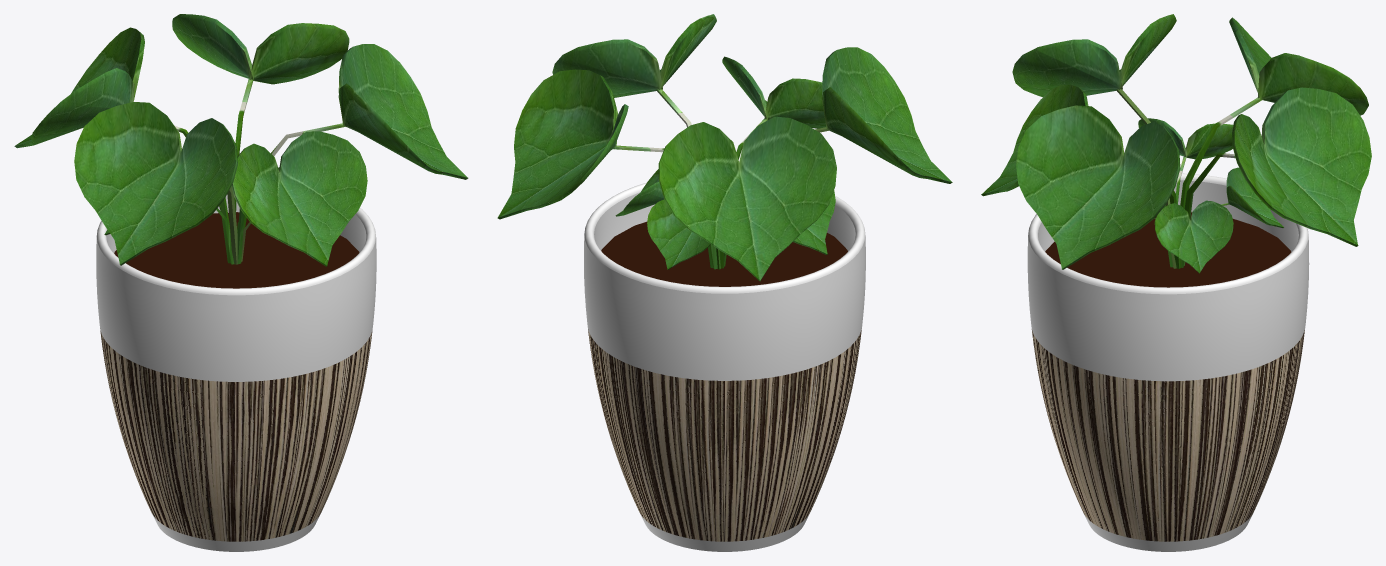
Rendered from Pflanze.gltf.
The picture shows the model from 3 angles, left to right: view 1: azimuth 30°, elevation 25°; view 2: azimuth 150°, elevation 25°; view 3: azimuth 270°, elevation 25°; orthographic projection.
Visible parts, largest first — view 1: Component#79, object 1, Komponente#3; view 2: Component#79, object 1, Komponente#3; view 3: Component#79, object 1, Komponente#3.
Part boxes in pixels (x1,y1,x2,y2): Component#79: (96, 194, 376, 551); object 1: (14, 14, 468, 266); Komponente#3: (114, 212, 359, 288); Component#79: (584, 182, 865, 551); object 1: (497, 14, 952, 281); Komponente#3: (601, 221, 847, 286); Component#79: (1027, 173, 1309, 551); object 1: (981, 14, 1371, 273); Komponente#3: (1045, 212, 1291, 287).
Bounding box in the file's own units: 0.3298 × 0.4 × 0.3169.
9 materials, 3 textured.
